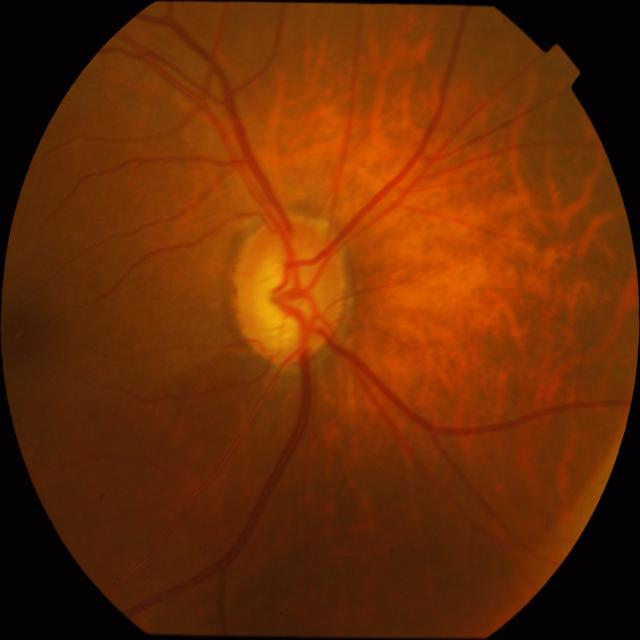OC: (250, 256, 319, 342)
OD: (233, 216, 346, 364)
